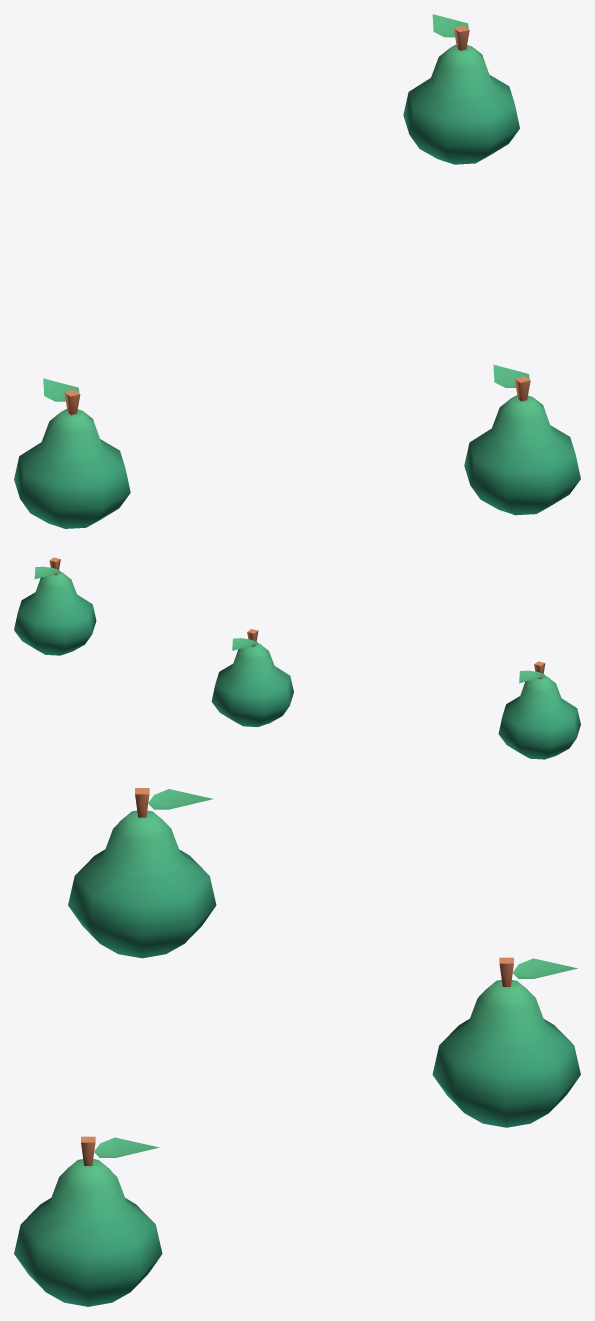
File: crafted-pear-fruits-ready.glb
3 views of the same model, one above another, from view 1: azimuth 30°, elevation 25°; view 2: azimuth 150°, elevation 25°; view 3: azimuth 270°, elevation 25° (orthographic). The views are drawn at different scales.
Parts seen in each view (by area): view 1: fruit-2, fruit-0, fruit-1; view 2: fruit-0, fruit-2, fruit-1; view 3: fruit-0, fruit-2, fruit-1.
Boxes of the visible parts, x1=… form: fruit-2: x1=403, y1=14, x2=519, y2=164; fruit-0: x1=14, y1=378, x2=130, y2=528; fruit-1: x1=464, y1=364, x2=580, y2=515; fruit-0: x1=498, y1=661, x2=580, y2=759; fruit-2: x1=14, y1=557, x2=96, y2=655; fruit-1: x1=211, y1=629, x2=293, y2=726; fruit-0: x1=68, y1=788, x2=216, y2=958; fruit-2: x1=432, y1=957, x2=580, y2=1127; fruit-1: x1=14, y1=1136, x2=162, y2=1306.
Size of the model in its own units: 1.35 by 0.65 by 0.84.
3 materials, 3 textured.
